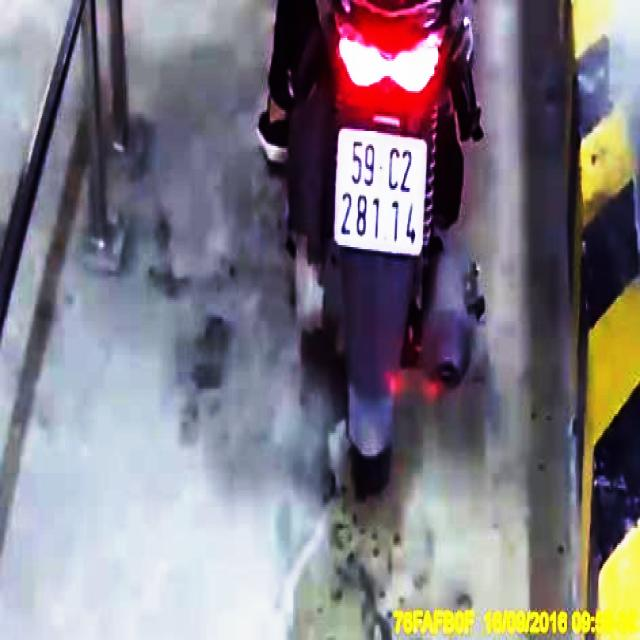license_plate: (336, 131, 431, 261)
